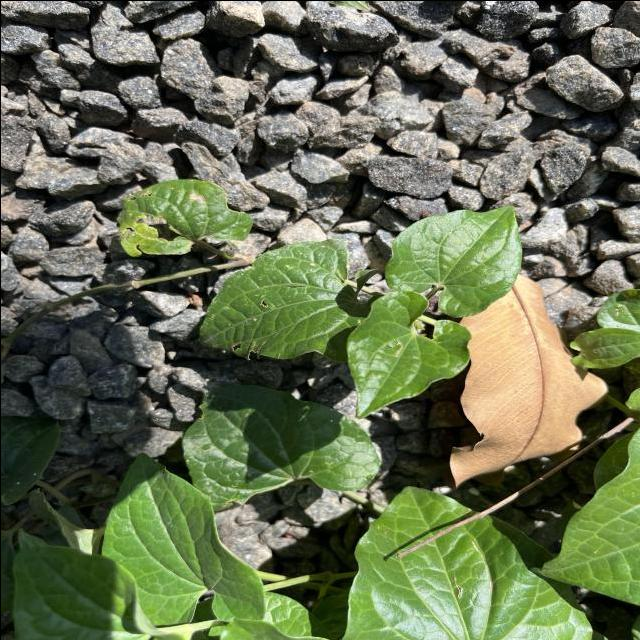Piper longum: (194, 236, 372, 365), (382, 202, 524, 318)
